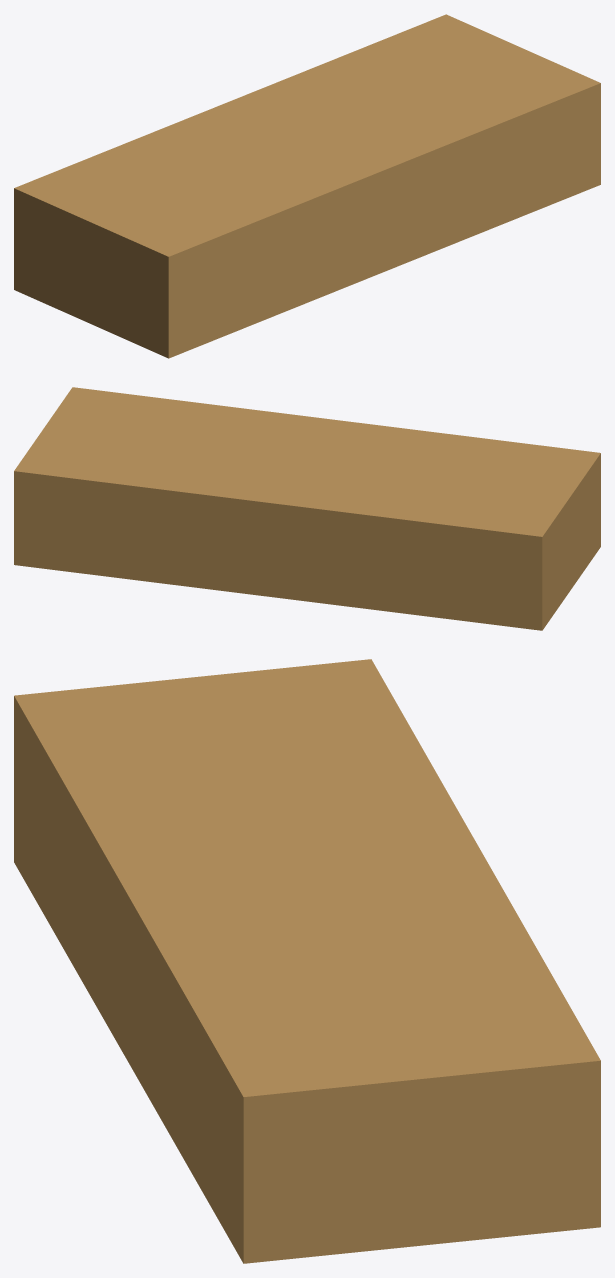
3 views of the same model, one above another, from view 1: azimuth 30°, elevation 25°; view 2: azimuth 150°, elevation 25°; view 3: azimuth 270°, elevation 25° (orthographic). The views are drawn at different scales.
Parts seen in each view (by area): view 1: __delivery_mesh_5216; view 2: __delivery_mesh_5216; view 3: __delivery_mesh_5216.
Boxes of the visible parts, bbox=[...] form: __delivery_mesh_5216: bbox=[14, 14, 600, 358]; __delivery_mesh_5216: bbox=[14, 387, 600, 630]; __delivery_mesh_5216: bbox=[14, 659, 600, 1263].
Size of the model in its own units: 0.2537 by 0.045 by 0.1437.
